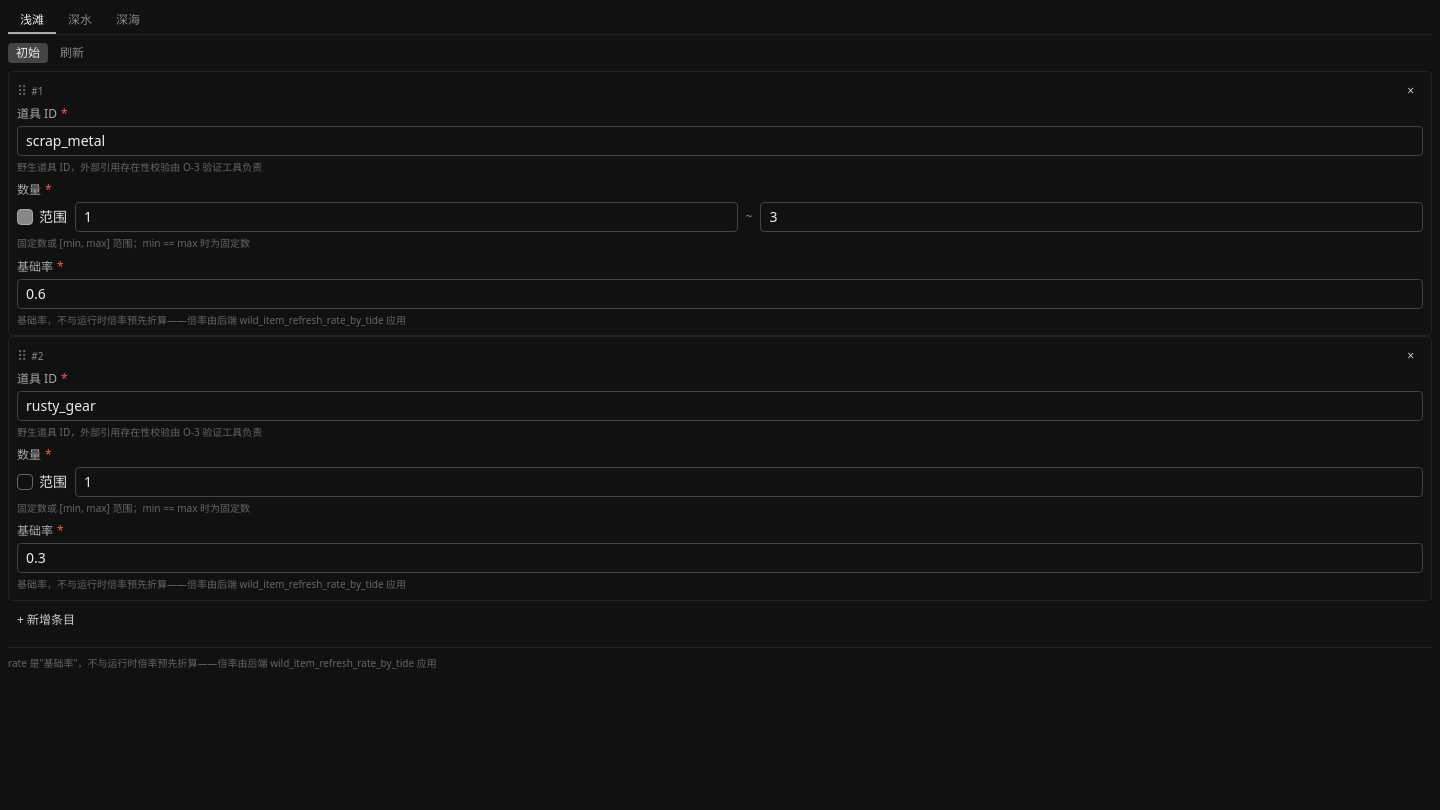
it: ScatterPoolEditor › 点击 refresh Tab 切换 phase（refresh 相位仅 1 条）
This screenshot has width=1440, height=810.
Step 1. Click the button "刷新" → (72, 53), box top-left (52, 43), bottom-right (92, 63)
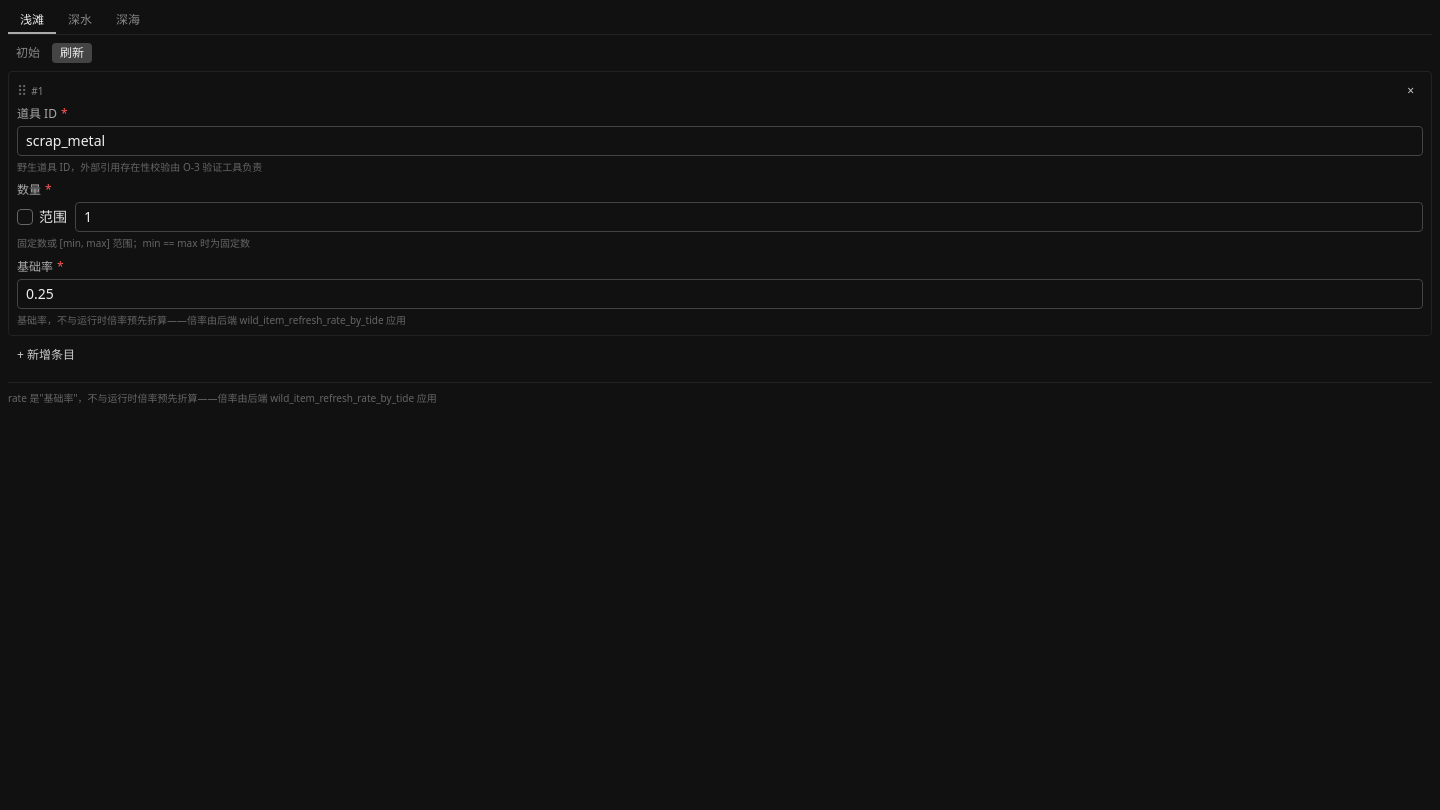
Expected: the field holds "scrap_metal", top-left (17, 126), bottom-right (1423, 156)
Expected: the number of fields is 1, top-left (17, 126), bottom-right (1423, 156)
